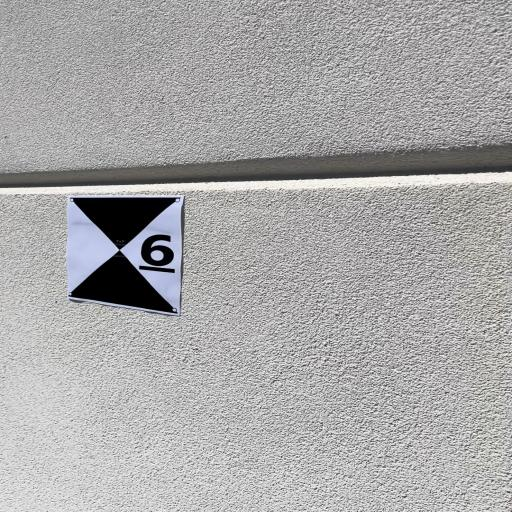target6: (64, 195, 185, 316)
